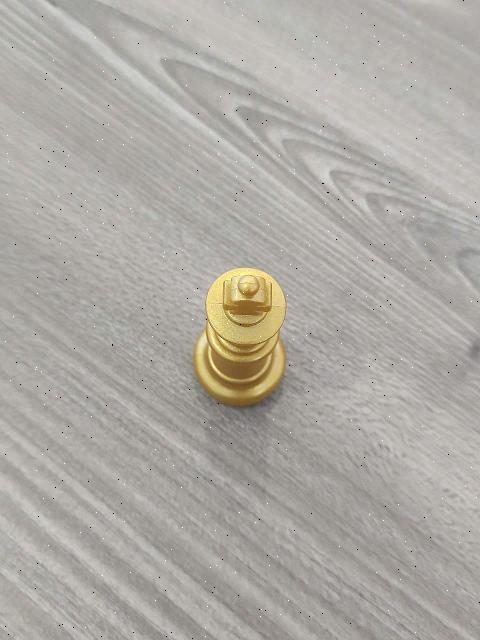black_king: (199, 265, 294, 403)
